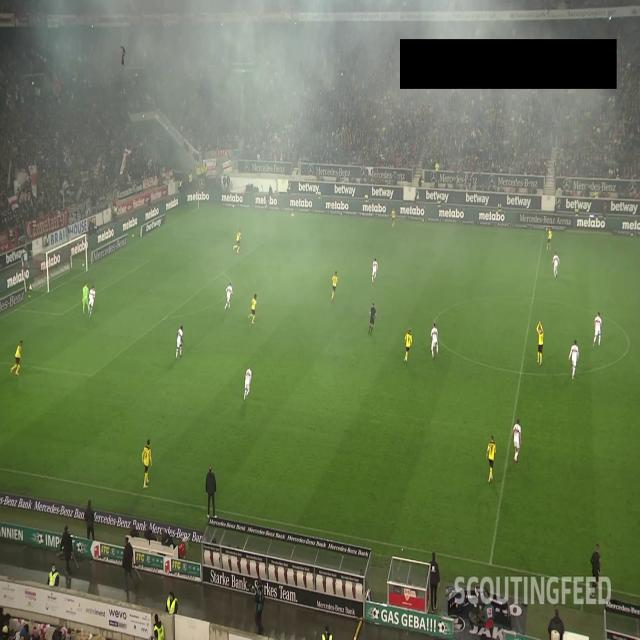Ball: (546, 226, 548, 232)
GoalKeeper: (82, 281, 90, 317)
Referee: (368, 302, 377, 336)
TEAM 1: (142, 439, 154, 490), (486, 436, 498, 482), (11, 340, 23, 377), (403, 328, 414, 363), (248, 292, 259, 326), (536, 321, 544, 366), (330, 270, 340, 300), (233, 228, 243, 254), (546, 227, 553, 250), (390, 208, 396, 228)
TEAM 2: (510, 420, 523, 463), (569, 339, 579, 381), (592, 314, 603, 348), (242, 366, 252, 402), (224, 282, 234, 311), (431, 324, 439, 359), (87, 286, 96, 317), (175, 324, 183, 358), (552, 253, 560, 279), (372, 257, 378, 282)
